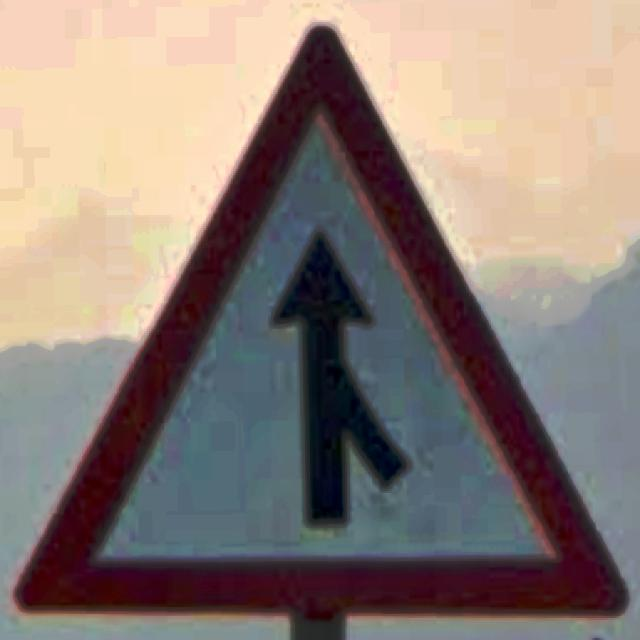rightmerge: (12, 26, 630, 618)
